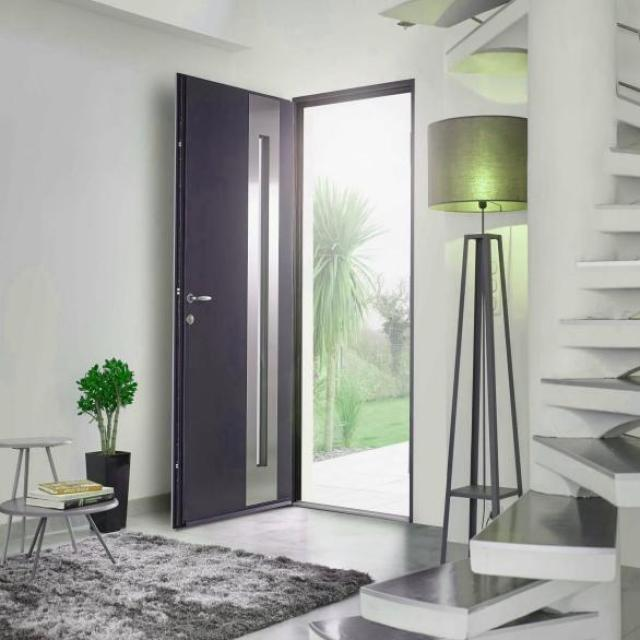door: (171, 71, 294, 528)
